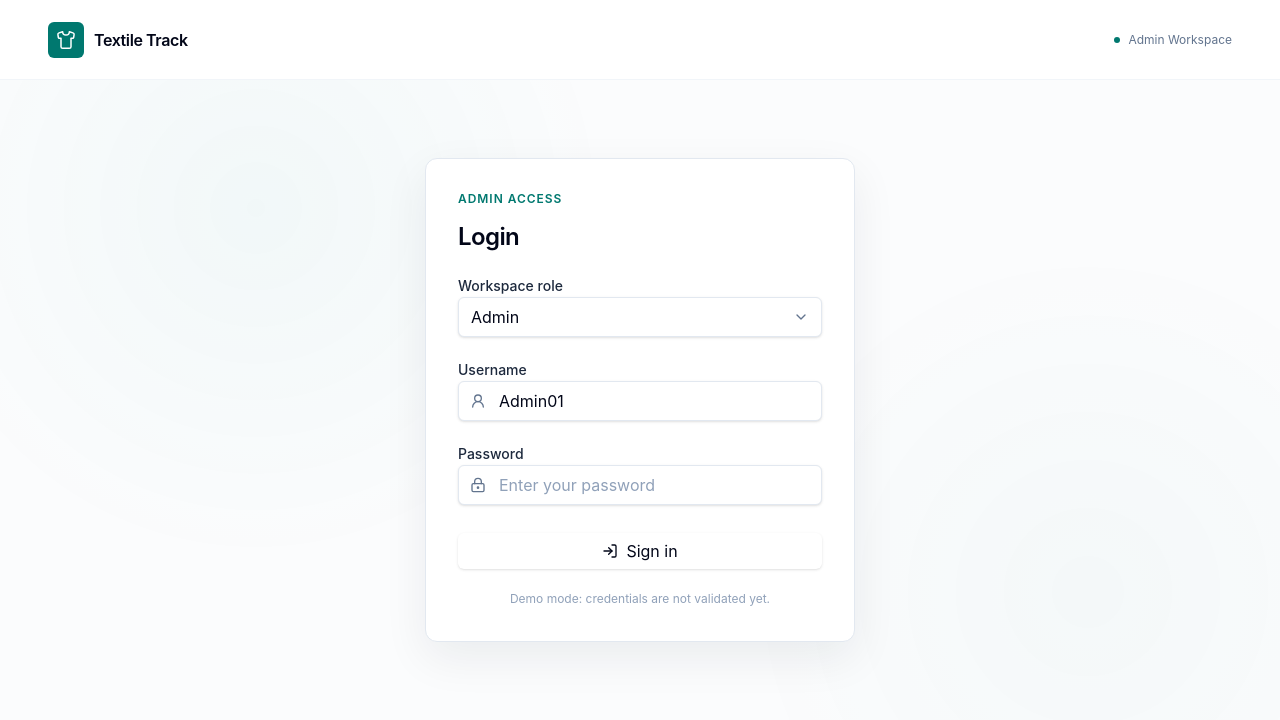
it: redirects the demo admin login to the admin workspace
This screenshot has width=1280, height=720.
In the password field labelled "Password": (640, 485) [458,465,822,505], type "demo-password"
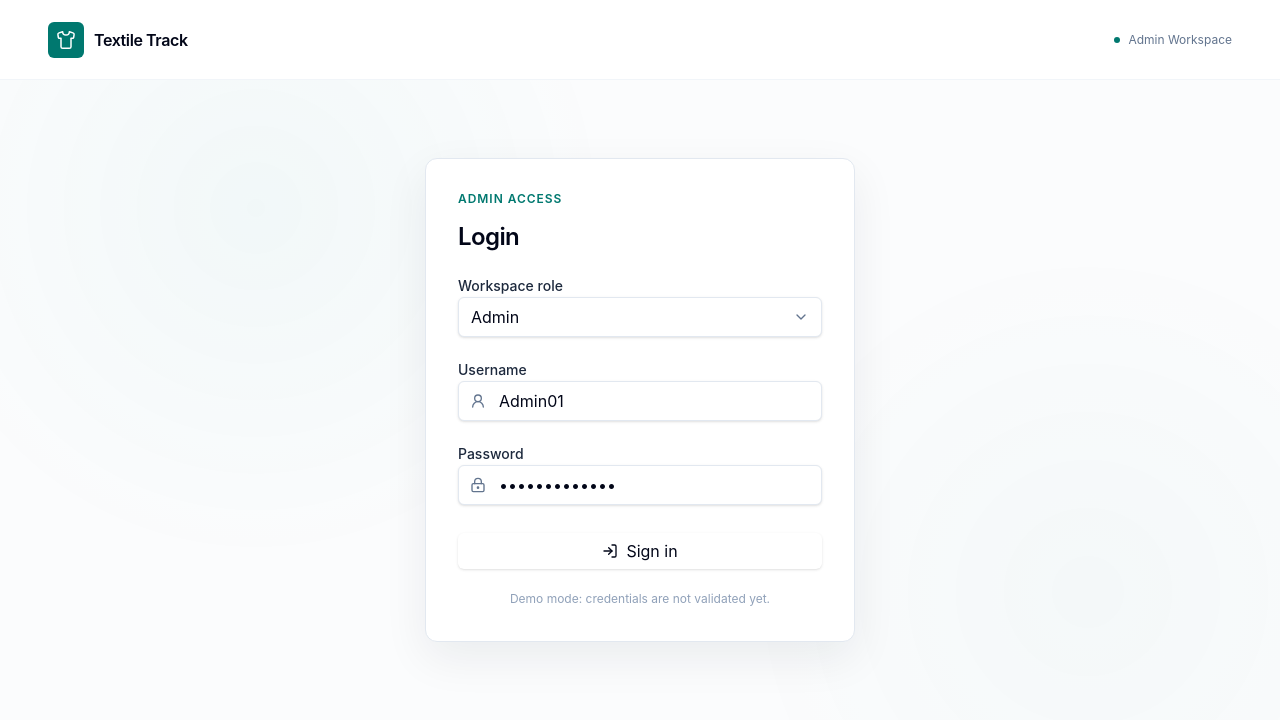
Click the button "Sign in": (640, 551) [458,533,822,569]
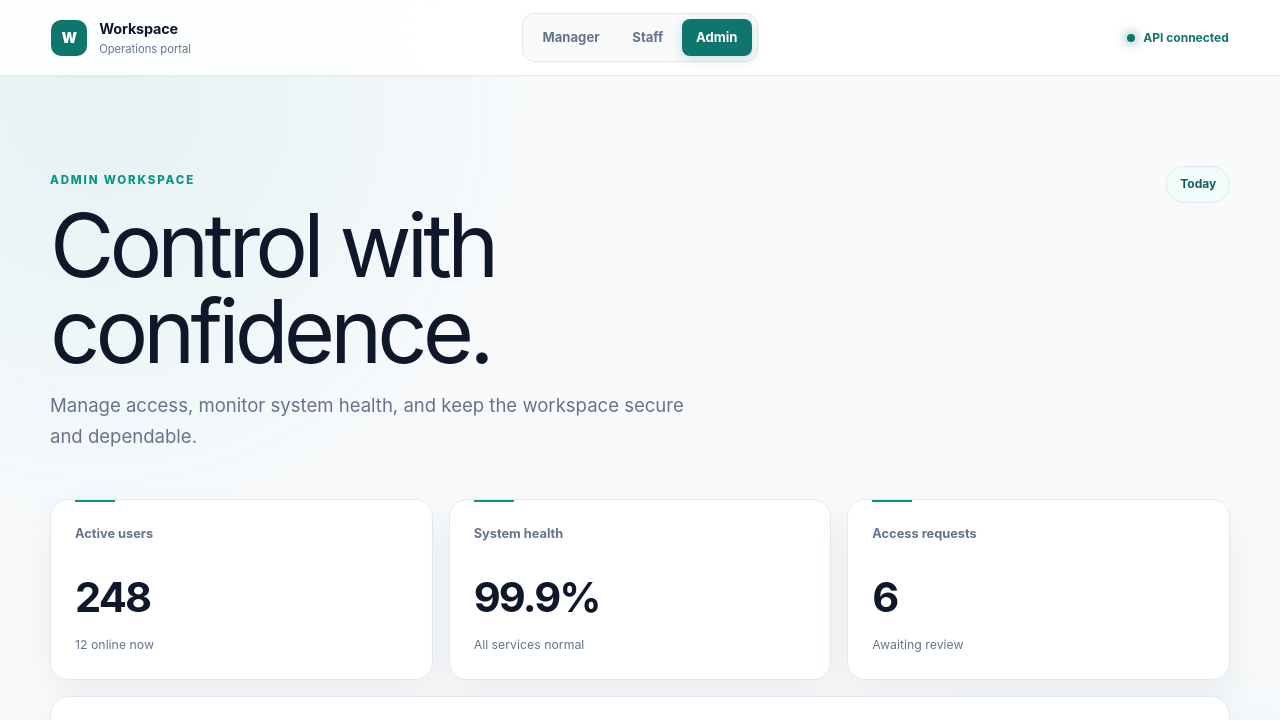
Check: the heading "Control with confidence." is shown, box [50,192,494,384]
